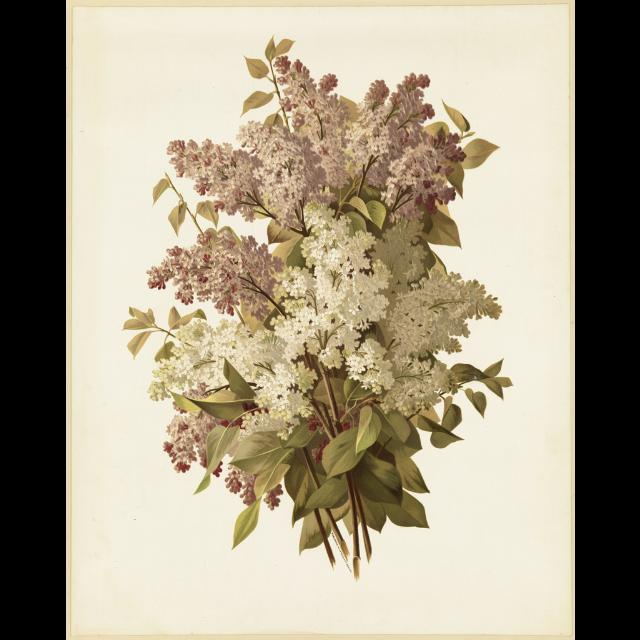Flower: (142, 51, 502, 497)
